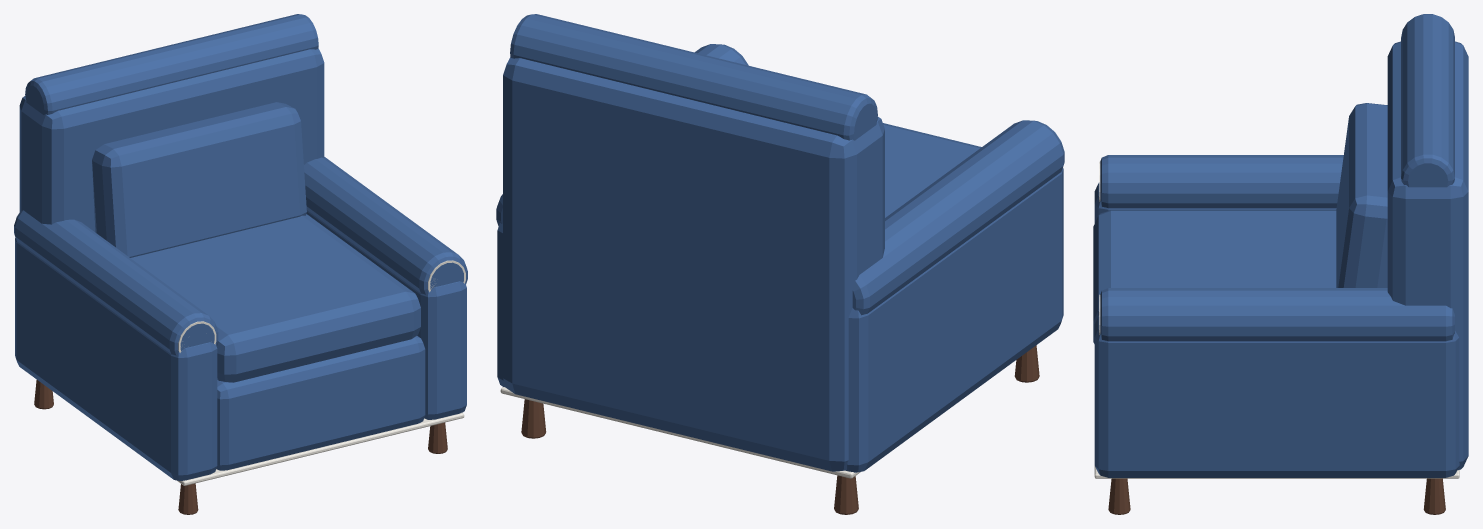
The model's file is hh_cat_armchair_v.glb.
3 renders of one model, left to right at view 1: azimuth 30°, elevation 25°; view 2: azimuth 150°, elevation 25°; view 3: azimuth 270°, elevation 25°, orthographic. The views are drawn at different scales.
Parts seen in each view (by area): view 1: cushion, arm, back_cushion, back, base, back_roll, arm_roll, arm_roll.001, arm.001, piping, leg, leg.002; view 2: back, arm, back_roll, arm_roll, cushion, piping, arm.001, leg.001, leg.003, arm_roll.001, leg; view 3: arm.001, cushion, arm_roll.001, back, arm_roll, back_roll, back_cushion, arm, leg.002, leg.003, piping.
Boxes of the visible parts, box(x1,y1,x2,y2) form: cushion: box(130, 214, 420, 382); arm: box(15, 238, 217, 480); back_cushion: box(92, 102, 306, 257); back: box(19, 48, 324, 231); base: box(216, 336, 425, 470); back_roll: box(25, 14, 318, 114); arm_roll: box(14, 210, 218, 355); arm_roll.001: box(304, 157, 467, 294); arm.001: box(306, 210, 466, 419); piping: box(177, 412, 464, 485); leg: box(178, 483, 198, 514); leg.002: box(428, 422, 447, 453); back: box(503, 57, 884, 471); arm: box(845, 168, 1063, 472); back_roll: box(510, 14, 877, 140); arm_roll: box(852, 120, 1064, 315); cushion: box(883, 123, 981, 217); piping: box(500, 387, 860, 478); arm.001: box(497, 223, 506, 387); leg.001: box(834, 475, 858, 514); leg.003: box(521, 399, 546, 438); arm_roll.001: box(496, 44, 748, 225); leg: box(1014, 345, 1039, 382); arm.001: box(1094, 315, 1459, 477); cushion: box(1093, 210, 1336, 343); arm_roll.001: box(1100, 288, 1454, 341); back: box(1387, 41, 1468, 470); arm_roll: box(1100, 155, 1343, 208); back_roll: box(1401, 14, 1454, 187); back_cushion: box(1336, 103, 1387, 287); arm: box(1094, 182, 1336, 222); leg.002: box(1108, 478, 1130, 514); leg.003: box(1423, 478, 1445, 514); piping: box(1094, 466, 1459, 478).
Bounding box in the file's own units: 0.85 × 0.9 × 0.85.
